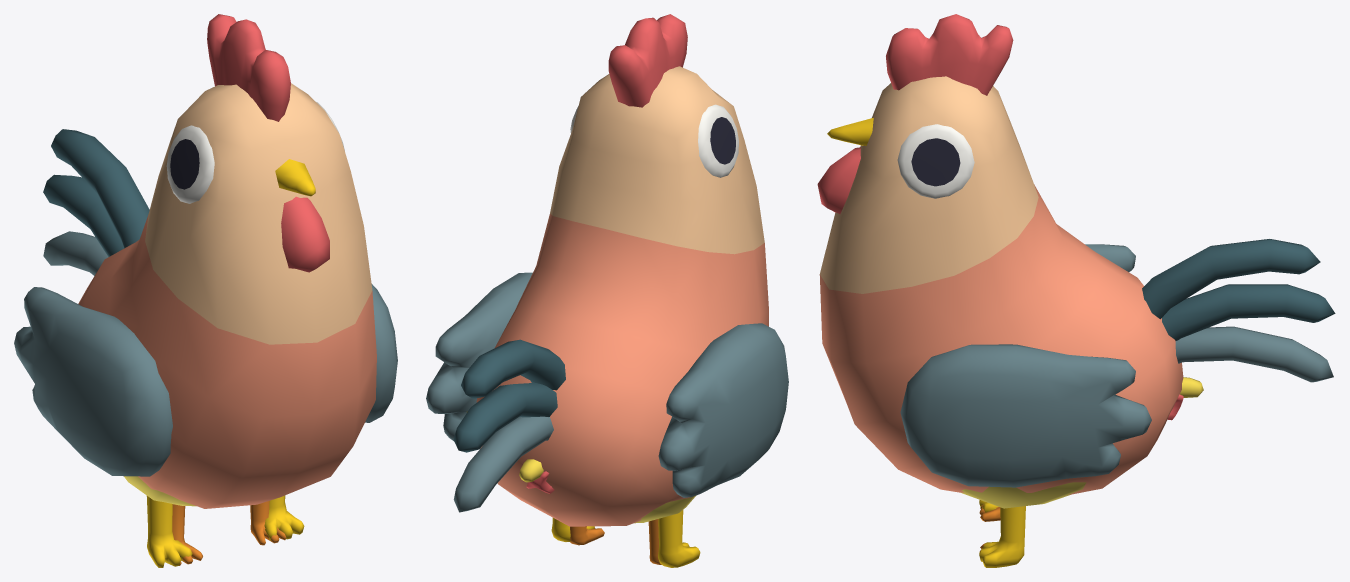
The model's file is Chicken.fbx.
3 views of the same model, side by side, from view 1: azimuth 30°, elevation 25°; view 2: azimuth 150°, elevation 25°; view 3: azimuth 270°, elevation 25° (orthographic). The views are drawn at different scales.
Parts seen in each view (by area): view 1: Chicken_big, Chicken_small; view 2: Chicken_big, Chicken_small; view 3: Chicken_big, Chicken_small.
Part boxes in pixels (x1,y1,x2,y2): Chicken_big: [14, 14, 397, 567]; Chicken_small: [124, 476, 286, 565]; Chicken_big: [426, 14, 788, 567]; Chicken_small: [467, 411, 696, 564]; Chicken_big: [817, 14, 1335, 567]; Chicken_small: [961, 377, 1203, 551].
Bounding box in the file's own units: 69.76 × 123 × 110.
